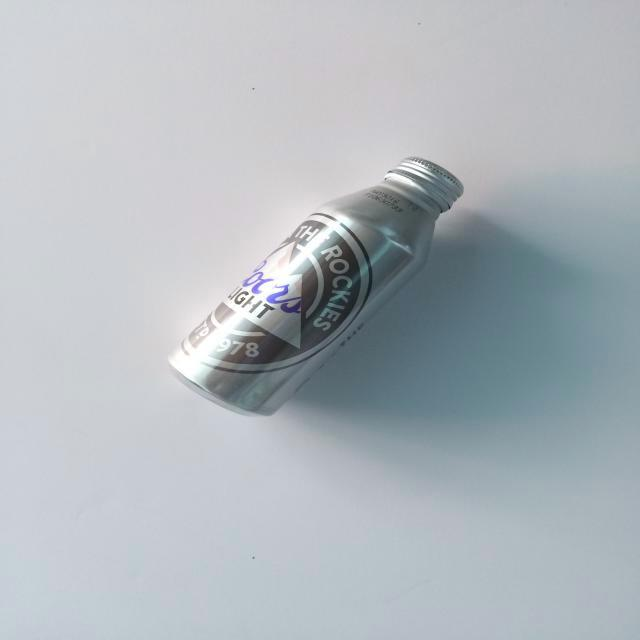metal: (154, 147, 494, 428)
